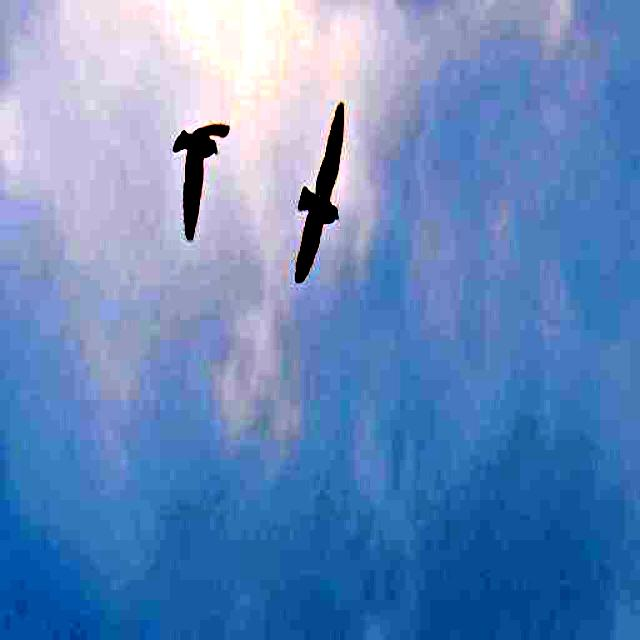airplane: (284, 75, 350, 299), (162, 98, 239, 240)
